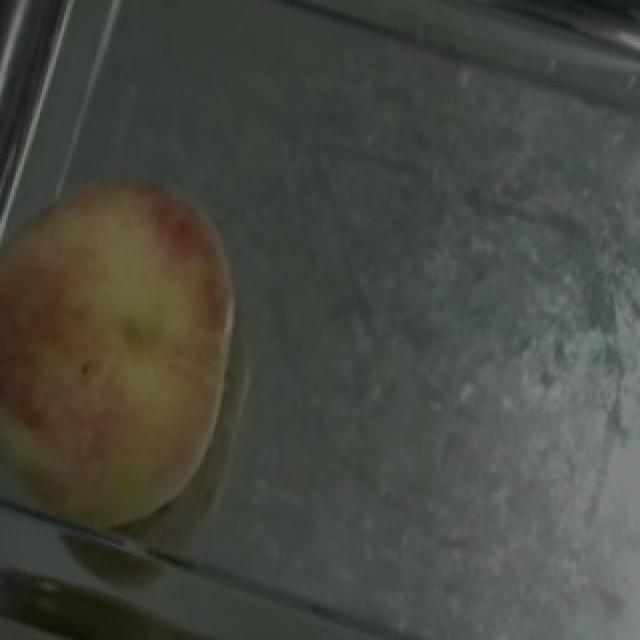Fruit: (0, 134, 294, 471)
